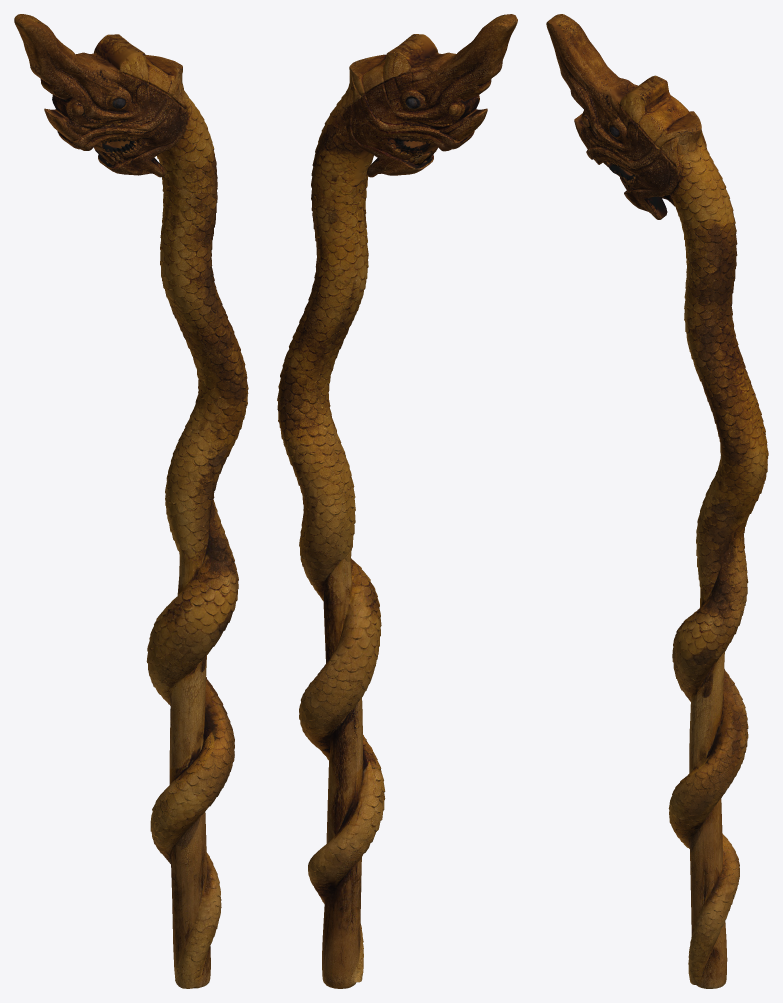
The model's file is w5nagastaff.glb.
The picture shows the model from 3 angles, left to right: view 1: azimuth 30°, elevation 25°; view 2: azimuth 150°, elevation 25°; view 3: azimuth 330°, elevation 25°; orthographic projection. The views are drawn at different scales.
Parts seen in each view (by area): view 1: output_unwrapped; view 2: output_unwrapped; view 3: output_unwrapped.
Part boxes in pixels (box(x1,y1,x2,y2)): output_unwrapped: box(14, 14, 248, 988); output_unwrapped: box(277, 14, 517, 988); output_unwrapped: box(546, 14, 768, 988).
Bounding box in the file's own units: 0.3327 × 1.4 × 0.1152.
Materials: 1 (1 with a texture image).
